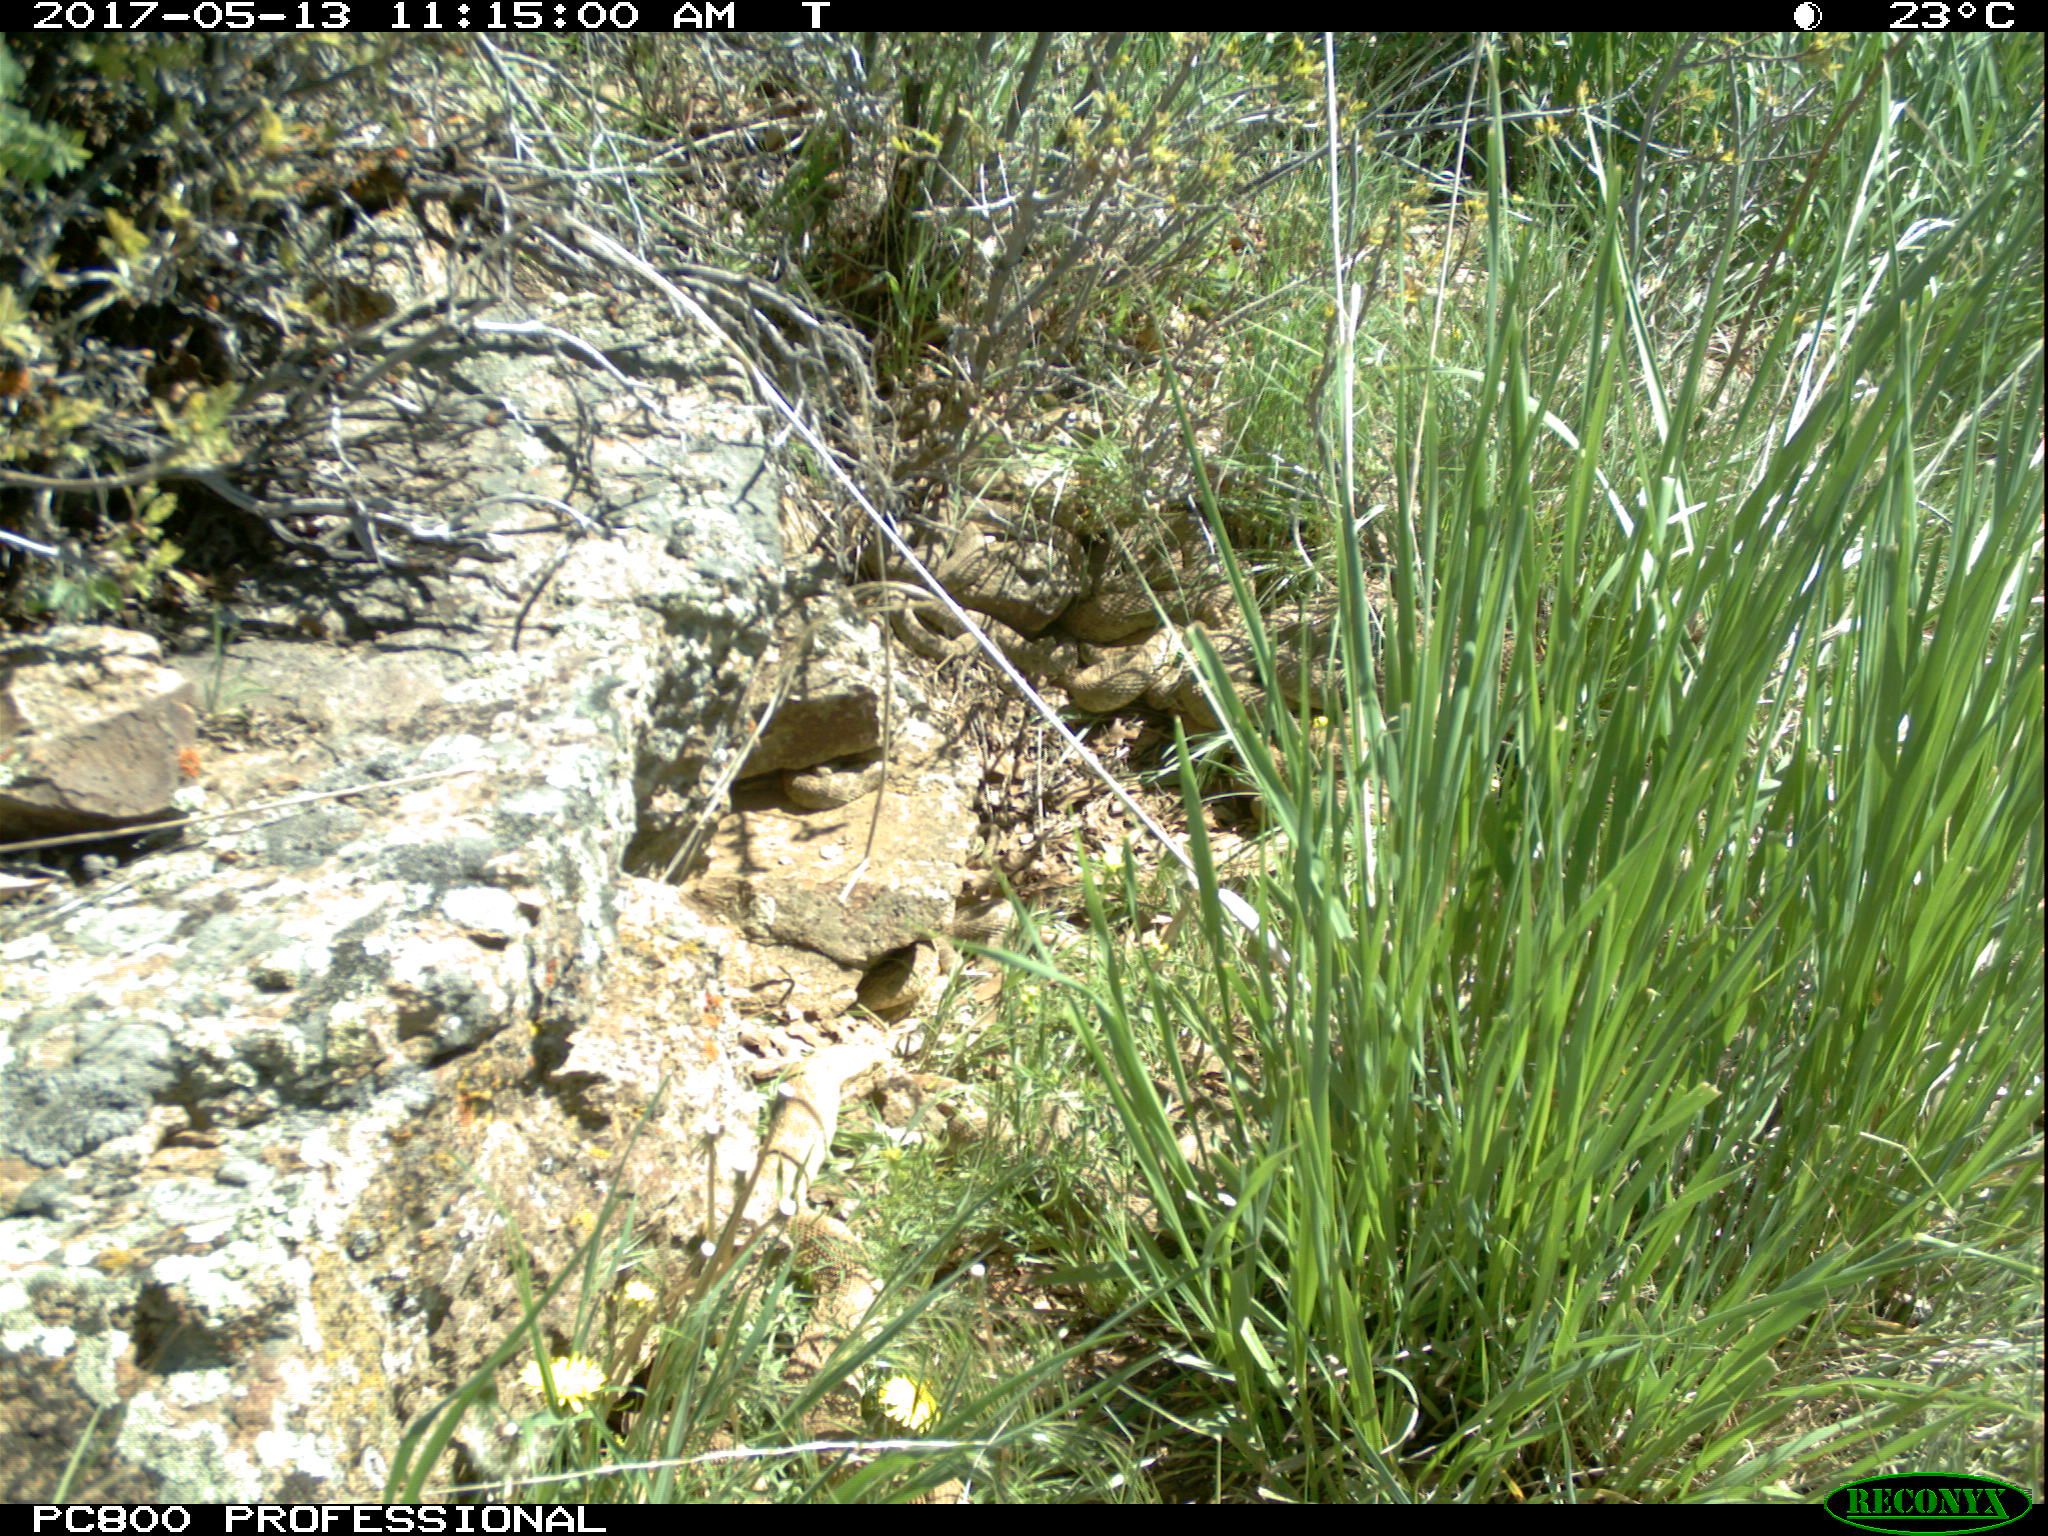snake: (892, 599, 1206, 712), (1169, 611, 1363, 744), (1087, 507, 1251, 641), (872, 495, 1108, 578)
